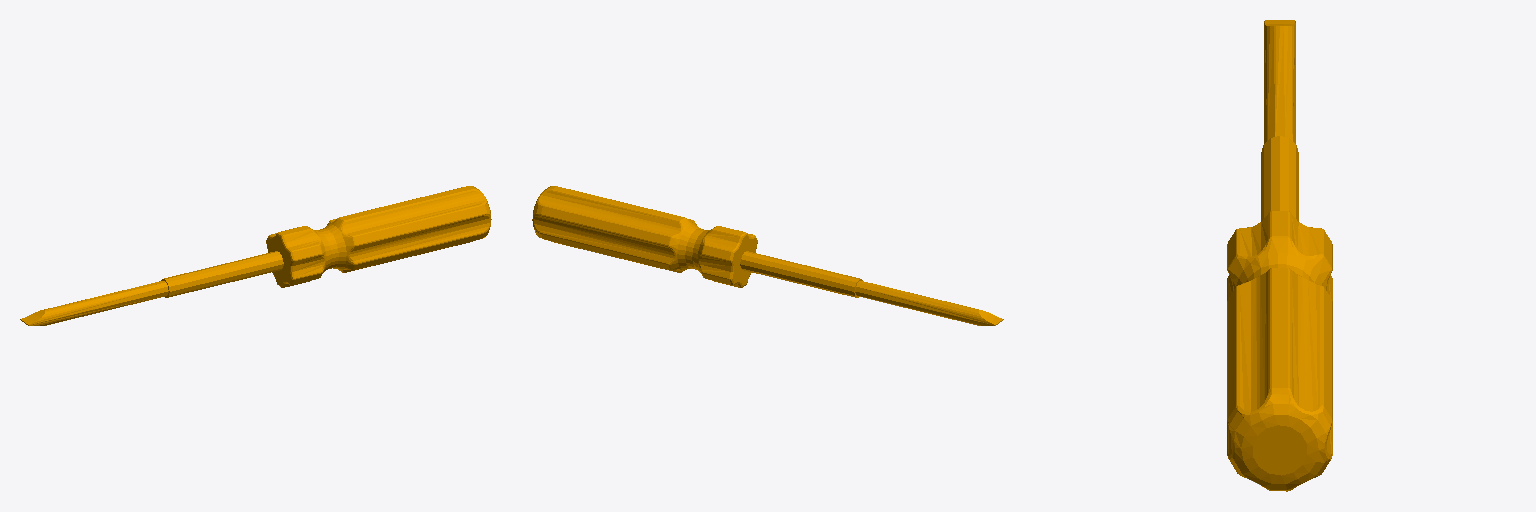
robot.urdf — screwdriver_2_L0.60_T0.60:
<?xml version="1.0" encoding="utf-8"?>
<robot name="screwdriver_2_L0.60_T0.60">
  <link name="screwdriver_2_L0.60_T0.60Link">
    <contact>
      <lateral_friction value="1"/>
    </contact>
    <inertial>
      <origin rpy="0 0 0" xyz="0 0 0"/>
      <mass value="0.0"/>
      <inertia ixx="0" ixy="0" ixz="0" iyy="0" iyz="0" izz="0"/>
    </inertial>
    <visual>
      <origin rpy="0 0 0" xyz="0 0 0"/>
      <geometry>
        <mesh filename="generated_stl/screwdriver/screwdriver_2/screwdriver_2_L0.60_T0.60/screwdriver_2_L0.60_T0.60.stl" scale="0.01 0.01 0.01"/>
      </geometry>
    </visual>
    <collision>
      <origin rpy="0 0 0" xyz="0 0 0"/>
      <geometry>
        <mesh filename="generated_stl/screwdriver/screwdriver_2/screwdriver_2_L0.60_T0.60/screwdriver_2_L0.60_T0.60.stl" scale="0.01 0.01 0.01"/>
      </geometry>
    </collision>
  </link>
</robot>

--- Render facts (derived) ---
Views: 3 orthographic renders of the robot side by side, from view 1: azimuth 30°, elevation 25°; view 2: azimuth 150°, elevation 25°; view 3: azimuth 270°, elevation 25°.
Robot: screwdriver_2_L0.60_T0.60 — 1 links, 0 joints (none); root link screwdriver_2_L0.60_T0.60Link; default pose: every joint at zero.
Visible links, largest first — view 1: screwdriver_2_L0.60_T0.60Link; view 2: screwdriver_2_L0.60_T0.60Link; view 3: screwdriver_2_L0.60_T0.60Link.
Link boxes in pixels (x1=…): screwdriver_2_L0.60_T0.60Link: x1=20, y1=186, x2=491, y2=325; screwdriver_2_L0.60_T0.60Link: x1=532, y1=186, x2=1003, y2=325; screwdriver_2_L0.60_T0.60Link: x1=1227, y1=20, x2=1332, y2=491.
Size in the robot's own frame: 0.048 by 0.005 by 0.0053 metres.
Meshes: 1 distinct files referenced, 1 mesh visuals loaded (1 binary STL).